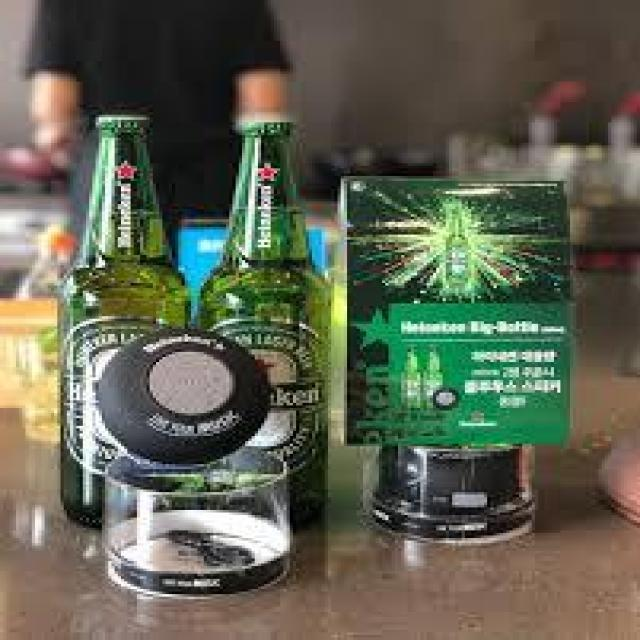beer-bottle: (44, 104, 200, 540), (202, 112, 331, 536)
